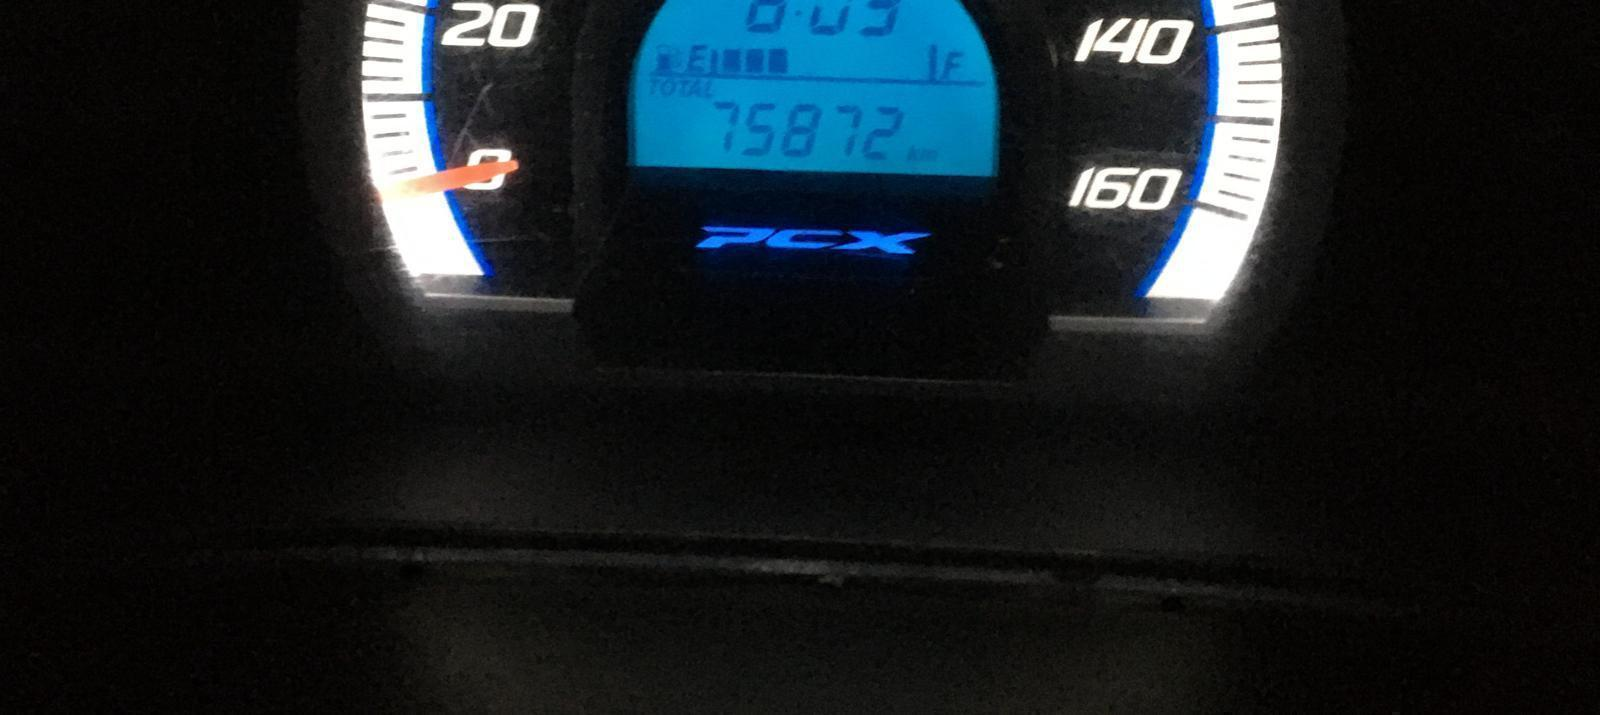2: (862, 102, 904, 161)
5: (741, 99, 776, 158)
7: (709, 97, 740, 158), (831, 101, 861, 160)
8: (778, 100, 823, 159)
X: (939, 49, 964, 79), (685, 43, 708, 73), (918, 147, 939, 161), (687, 78, 701, 97), (660, 76, 674, 95), (646, 76, 660, 95), (701, 79, 713, 97), (674, 79, 687, 96), (906, 143, 917, 161)
odometer: (611, 3, 1008, 184)
